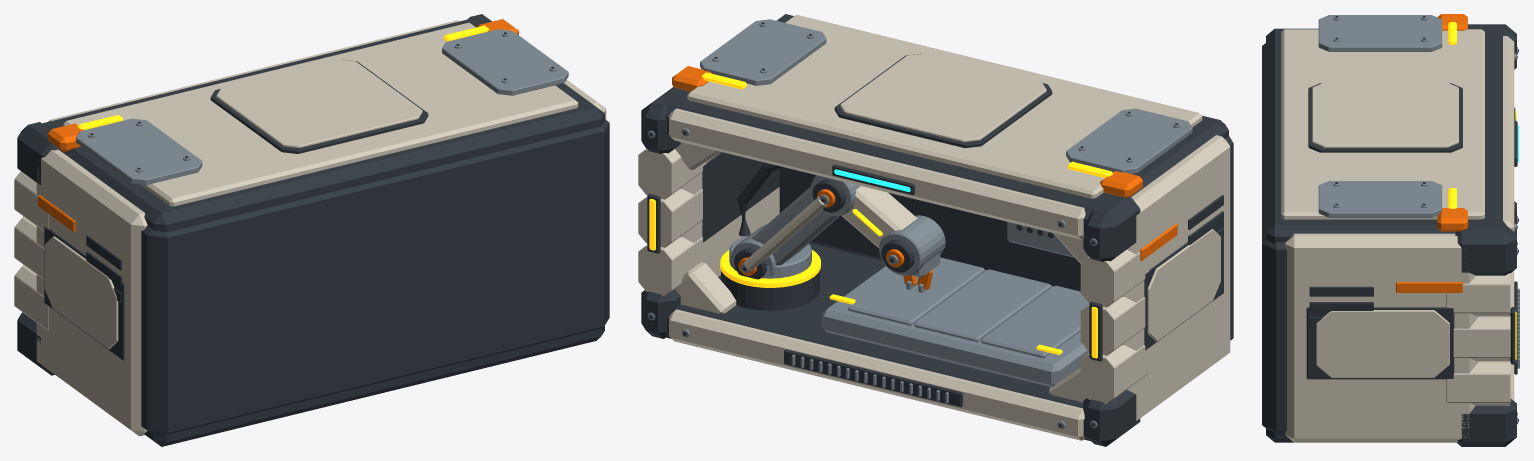
The model's file is VF_Assembler.fbx.
3 renders of one model, left to right at view 1: azimuth 30°, elevation 25°; view 2: azimuth 150°, elevation 25°; view 3: azimuth 270°, elevation 25°, orthographic. The views are drawn at different scales.
Visible parts, largest first — view 1: VF_Assembler_Graphite, VF_Assembler_Ivory, VF_Assembler_Steel, VF_Assembler_Orange, VF_Assembler_Amber; view 2: VF_Assembler_Ivory, VF_Assembler_Graphite, VF_Assembler_Steel, VF_Assembler_Amber, VF_Assembler_Orange; view 3: VF_Assembler_Ivory, VF_Assembler_Graphite, VF_Assembler_Steel, VF_Assembler_Orange, VF_Assembler_Amber.
Part boxes in pixels (left/top/right/bottom): VF_Assembler_Graphite: left=17, top=14, right=609, bottom=446; VF_Assembler_Ivory: left=14, top=20, right=606, bottom=436; VF_Assembler_Steel: left=76, top=29, right=568, bottom=184; VF_Assembler_Orange: left=38, top=19, right=518, bottom=232; VF_Assembler_Amber: left=77, top=25, right=489, bottom=129; VF_Assembler_Ivory: left=638, top=14, right=1230, bottom=440; VF_Assembler_Graphite: left=641, top=14, right=1233, bottom=446; VF_Assembler_Steel: left=647, top=19, right=1192, bottom=428; VF_Assembler_Amber: left=649, top=72, right=1113, bottom=358; VF_Assembler_Orange: left=672, top=66, right=1177, bottom=289; VF_Assembler_Ivory: left=1281, top=29, right=1514, bottom=442; VF_Assembler_Graphite: left=1262, top=16, right=1518, bottom=446; VF_Assembler_Steel: left=1318, top=15, right=1519, bottom=424; VF_Assembler_Orange: left=1396, top=14, right=1467, bottom=292; VF_Assembler_Amber: left=1448, top=22, right=1516, bottom=359.
Size of the model in its own units: 2 by 1 by 1.
